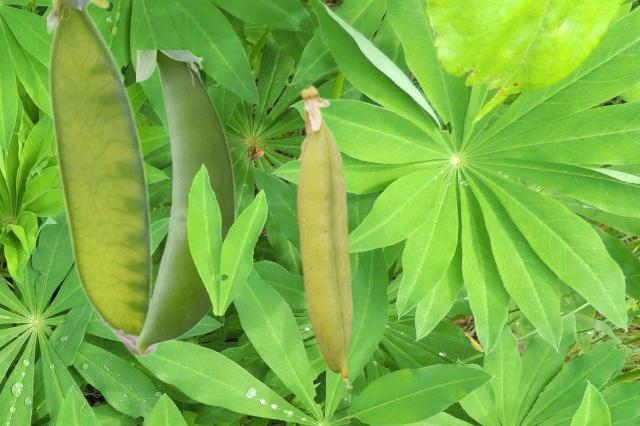pea: (47, 0, 157, 355), (136, 50, 234, 354), (296, 84, 353, 388)
